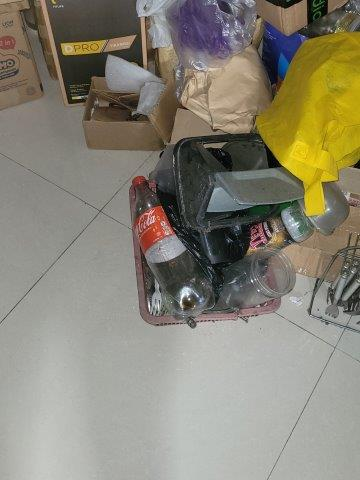botolplastik: (133, 174, 216, 322), (240, 204, 314, 254)
